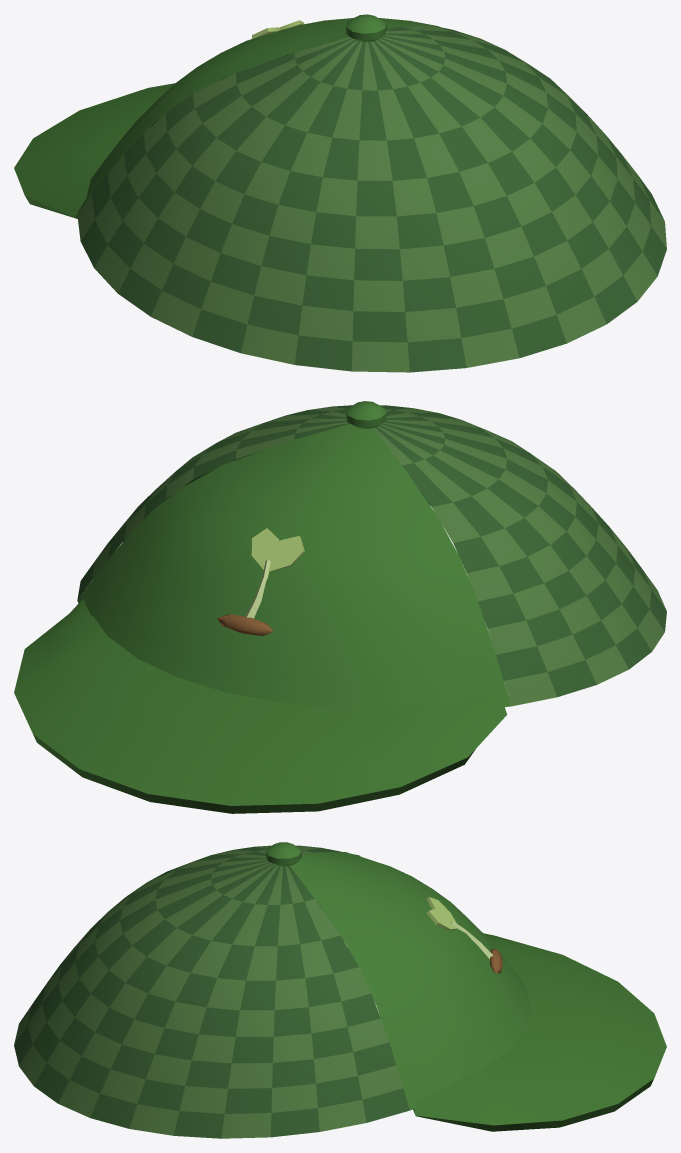
The picture shows the model from 3 angles, top to bottom: view 1: azimuth 30°, elevation 25°; view 2: azimuth 150°, elevation 25°; view 3: azimuth 270°, elevation 25°; orthographic projection. The views are drawn at different scales.
Visible parts, largest first — view 1: h_farmcap; view 2: h_farmcap; view 3: h_farmcap.
Boxes of the visible parts, left/top/right/bottom form: h_farmcap: left=14, top=14, right=666, bottom=372; h_farmcap: left=14, top=401, right=666, bottom=813; h_farmcap: left=14, top=842, right=666, bottom=1138.
Size of the model in its own units: 0.8228 by 0.3684 by 1.04.
